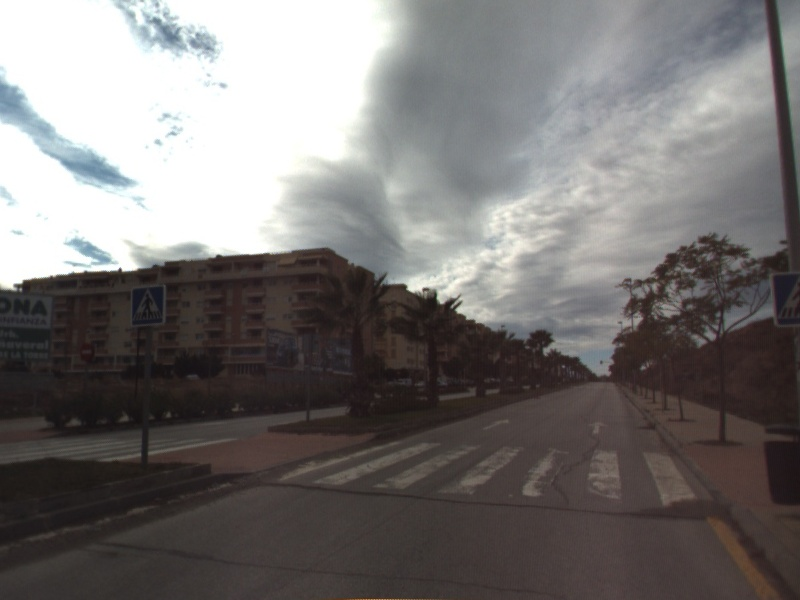STRAIGHT: (480, 416, 512, 432), (586, 419, 610, 436)
